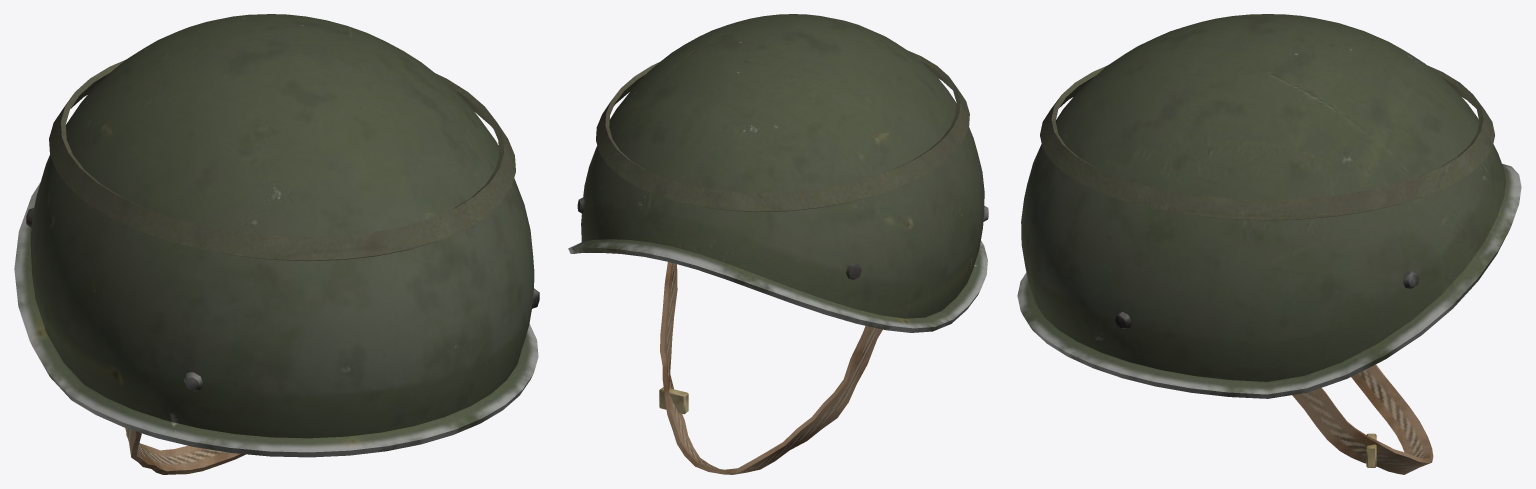
The model's file is armor_helmet_display.glb.
The picture shows the model from 3 angles, left to right: view 1: azimuth 30°, elevation 25°; view 2: azimuth 150°, elevation 25°; view 3: azimuth 270°, elevation 25°; orthographic projection. The views are drawn at different scales.
Visible parts, largest first — view 1: armor_helmet; view 2: armor_helmet; view 3: armor_helmet.
Part boxes in pixels (x1=…): armor_helmet: x1=14, y1=14, x2=539, y2=474; armor_helmet: x1=568, y1=14, x2=988, y2=474; armor_helmet: x1=1017, y1=14, x2=1521, y2=474.
Size of the model in its own units: 0.2591 by 0.2832 by 0.2984.
1 material, 1 textured.
